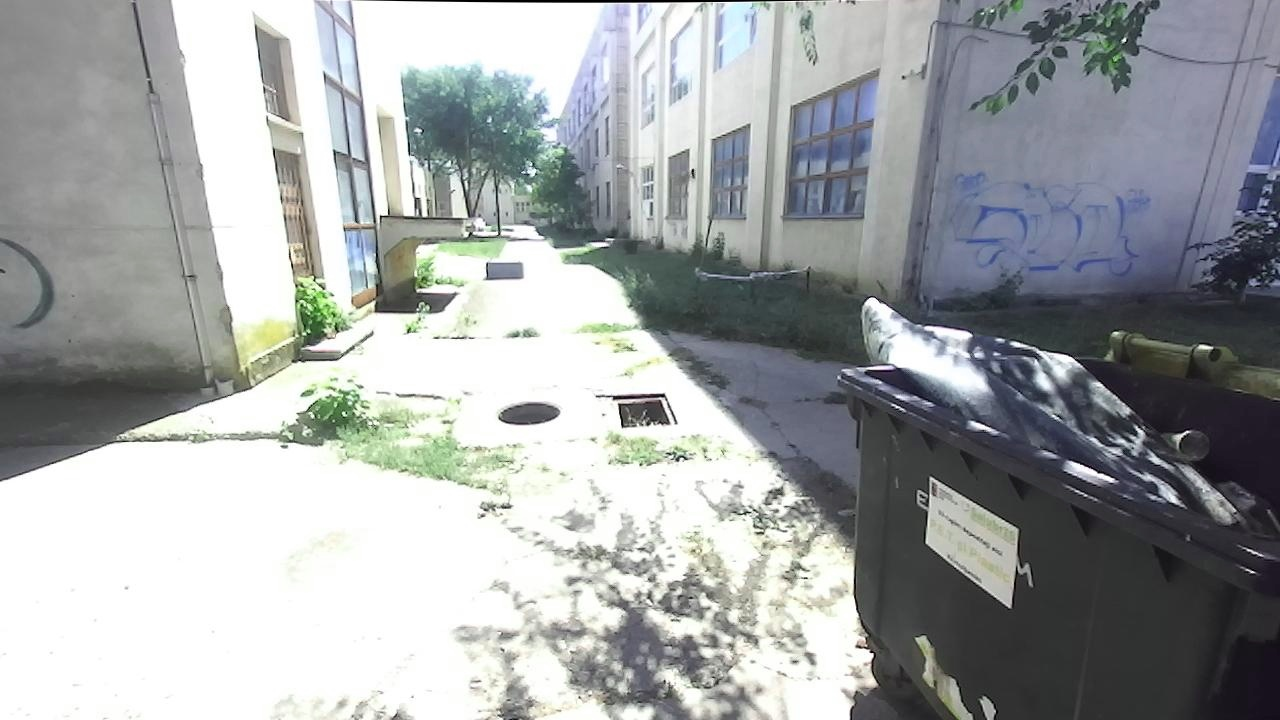drain: (595, 387, 676, 435), (492, 398, 562, 425)
